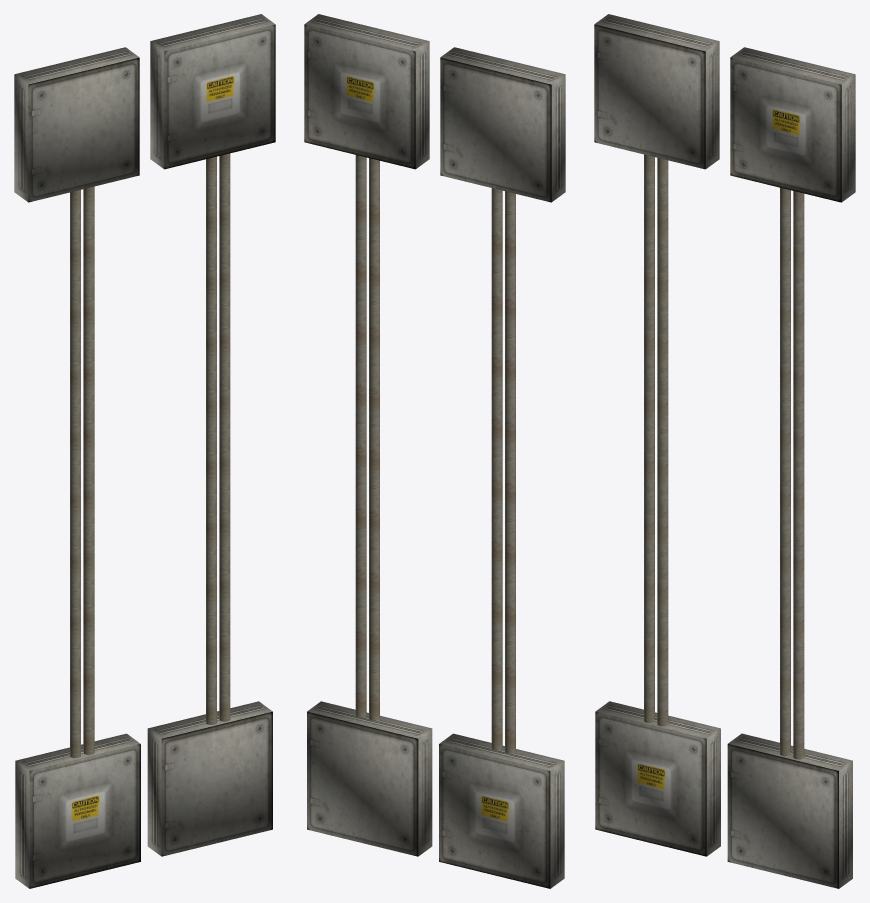
Rendered from electrical_boxes2.fbx.
The picture shows the model from 3 angles, left to right: view 1: azimuth 30°, elevation 25°; view 2: azimuth 150°, elevation 25°; view 3: azimuth 330°, elevation 25°; orthographic projection.
Parts seen in each view (by area): view 1: Mesh; view 2: Mesh; view 3: Mesh.
Boxes of the visible parts, box(x1,y1,x2,y2) form: Mesh: box(14, 14, 275, 888); Mesh: box(304, 14, 565, 888); Mesh: box(594, 14, 855, 888).
Bounding box in the file's own units: 84.38 × 262 × 8.36.
